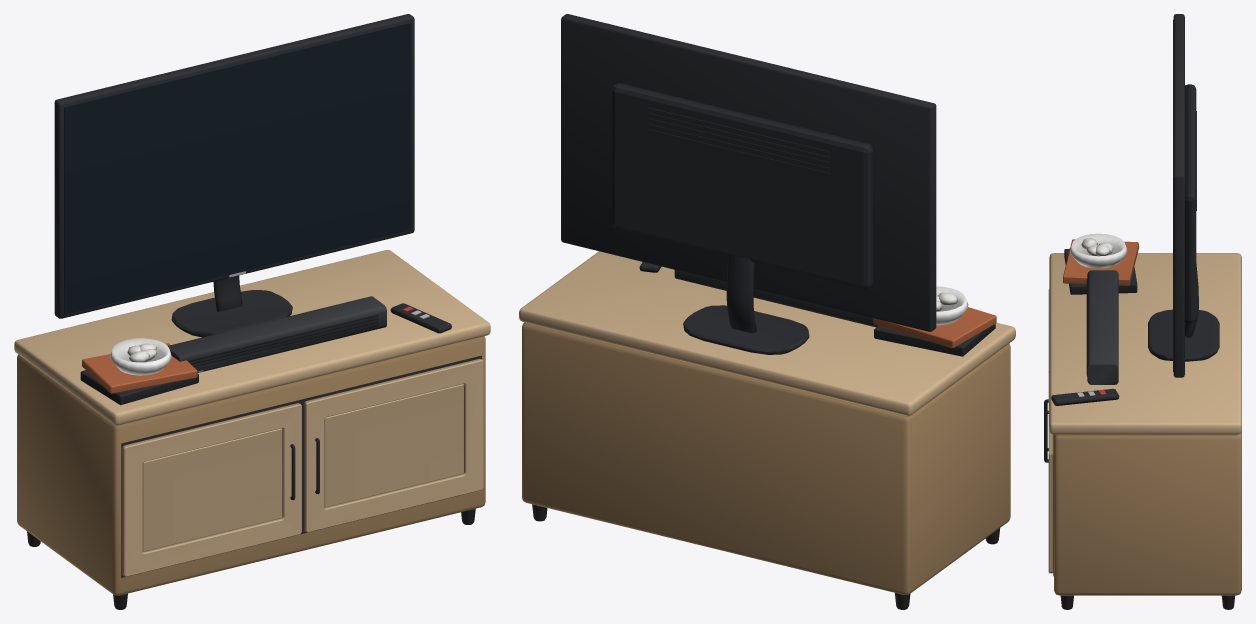
The picture shows the model from 3 angles, left to right: view 1: azimuth 30°, elevation 25°; view 2: azimuth 150°, elevation 25°; view 3: azimuth 270°, elevation 25°; orthographic projection. The views are drawn at different scales.
Visible parts, largest first — view 1: tv; view 2: tv; view 3: tv.
Boxes of the visible parts, x1,y1,x2,y2 form: tv: [14, 14, 490, 609]; tv: [519, 14, 1015, 609]; tv: [1044, 14, 1241, 609].
Size of the model in its own units: 0.91 by 1.07 by 0.442.
